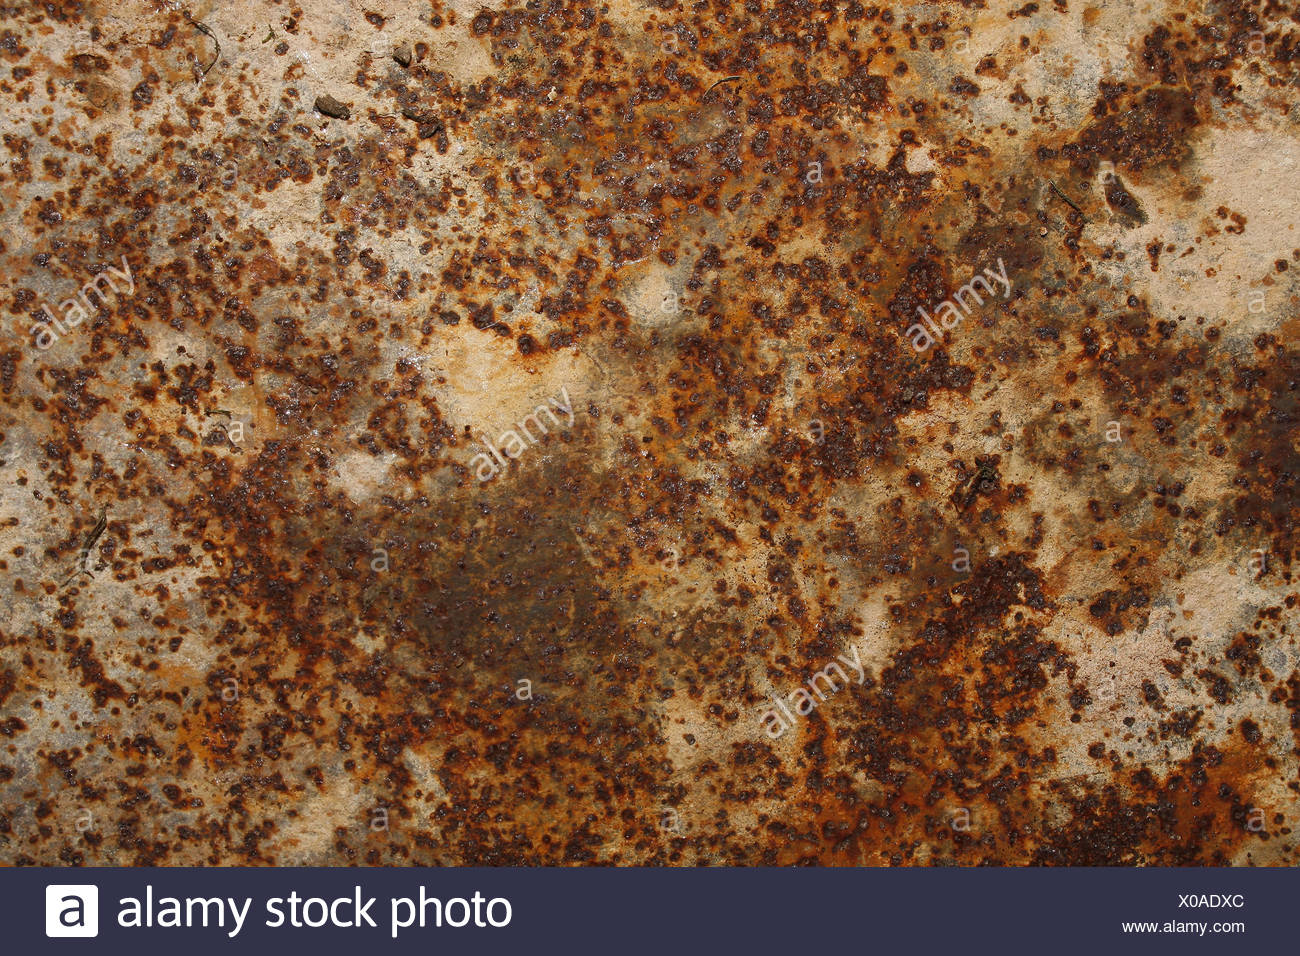rust: (1, 3, 1300, 867)
